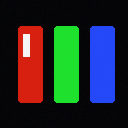4 line_v: (23, 34, 29, 56)
